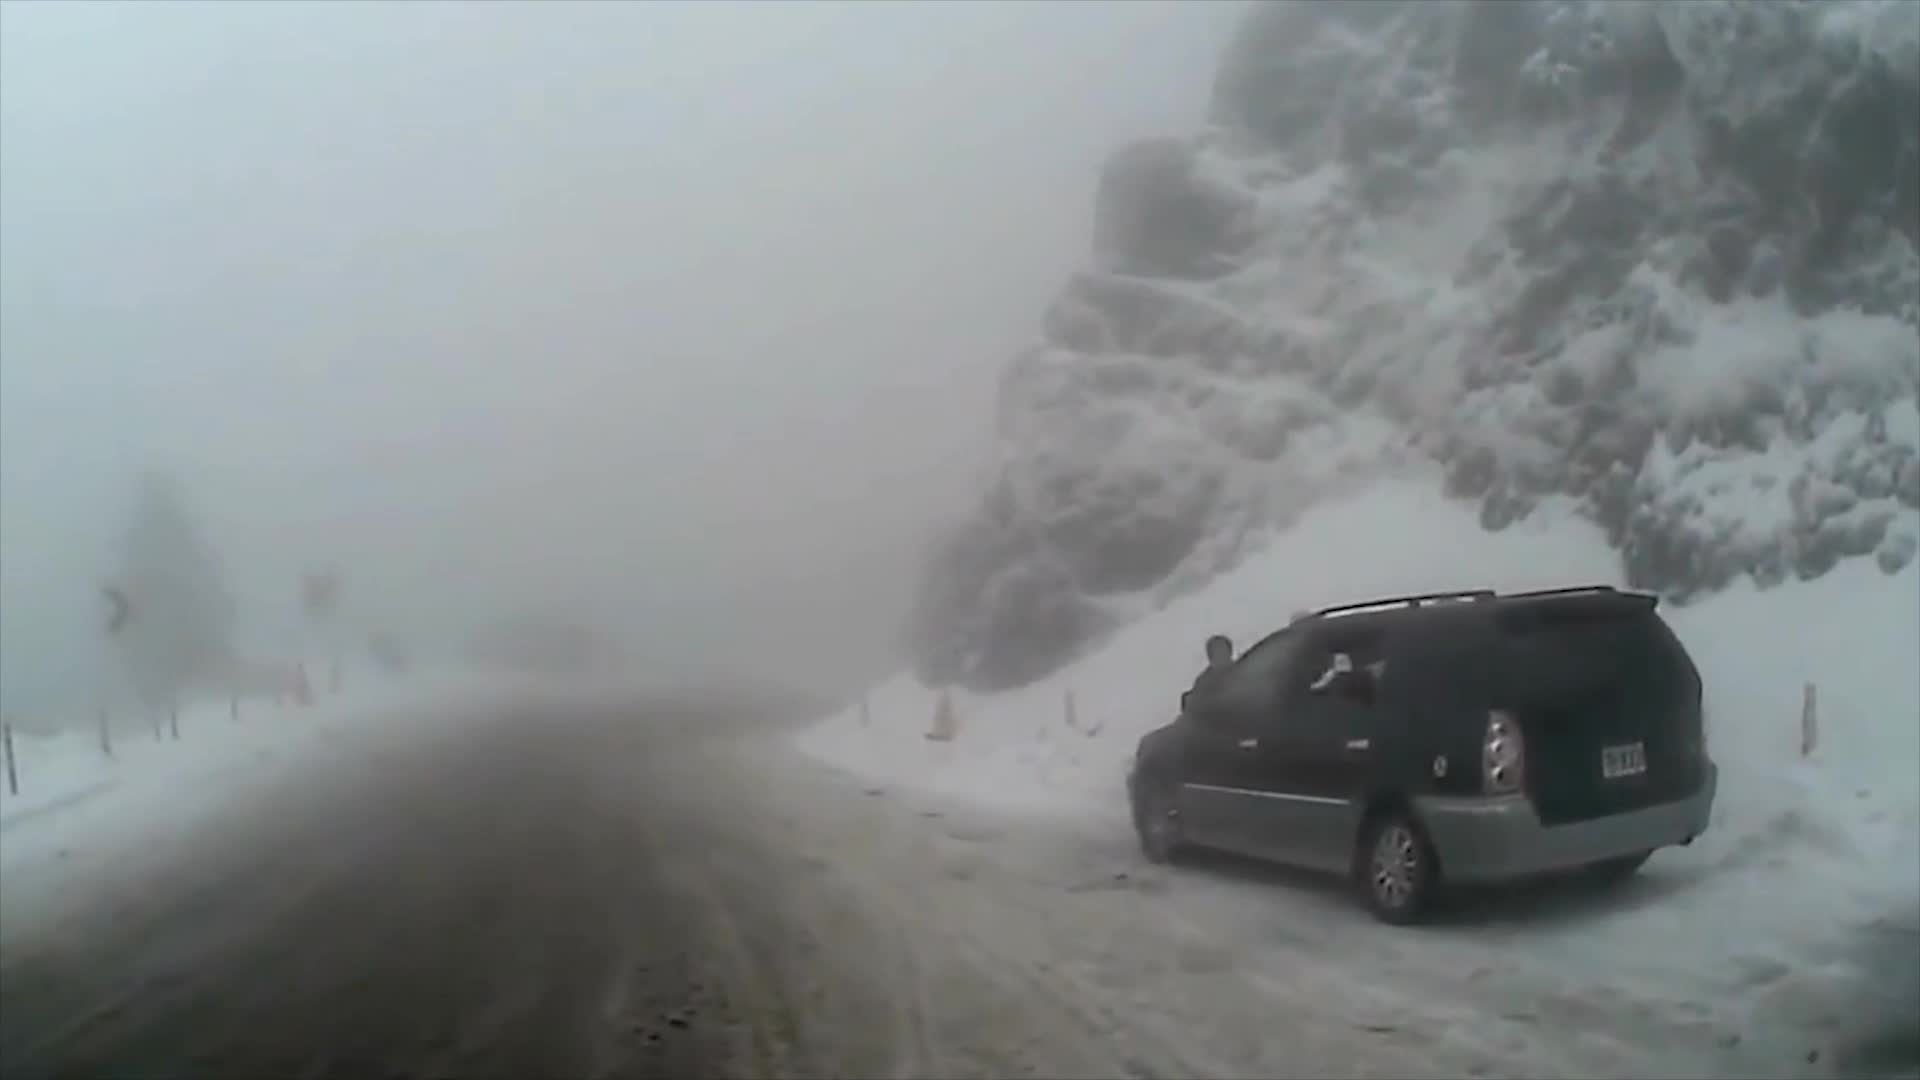vehicle: (1124, 582, 1718, 927)
